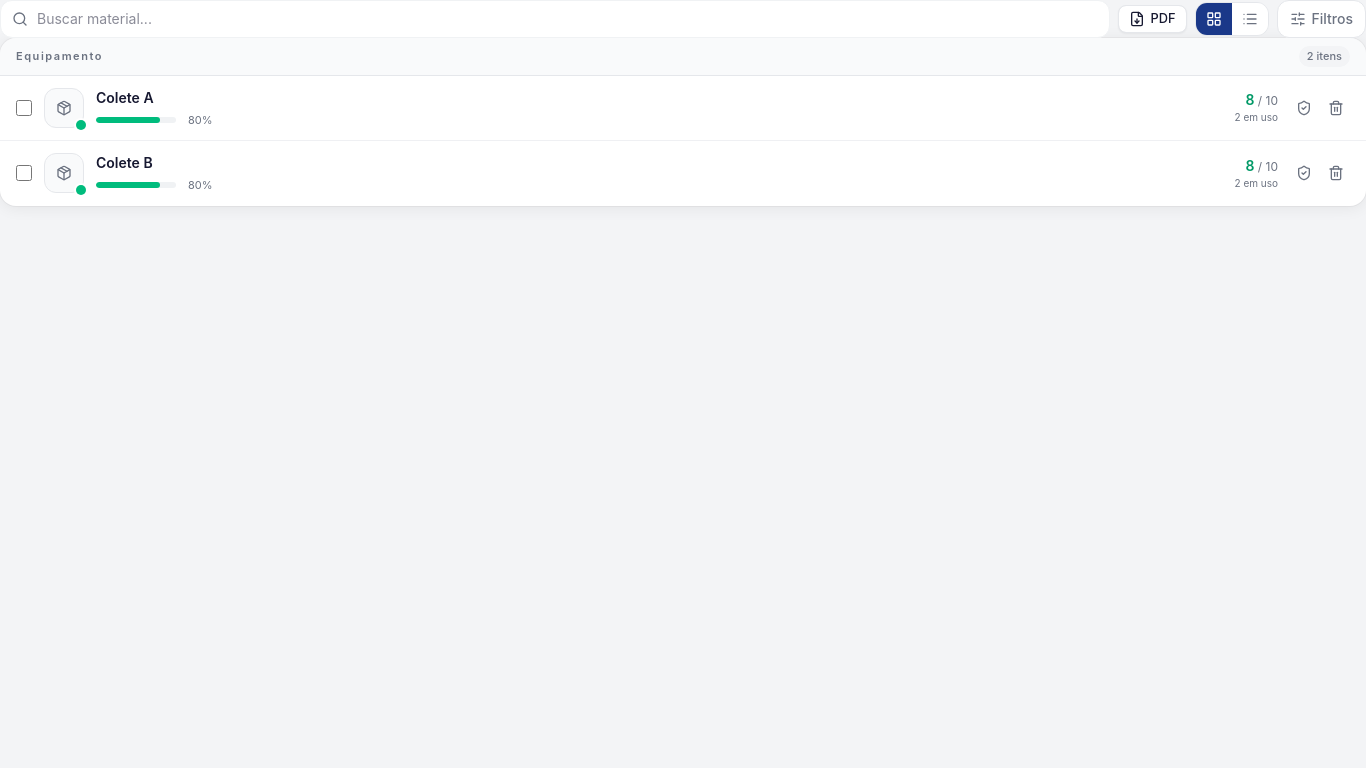
Test: ArsenalClient — 'Desativar material?' (AlertDialog, grupo simples) › guarda de concorrência: enquanto um DELETE está em voo, clicar em excluir outro material não abre um 2º diálogo
Click the button with test id "btn-delete-material". click: [1336, 108]
box: [1322, 94, 1350, 122]
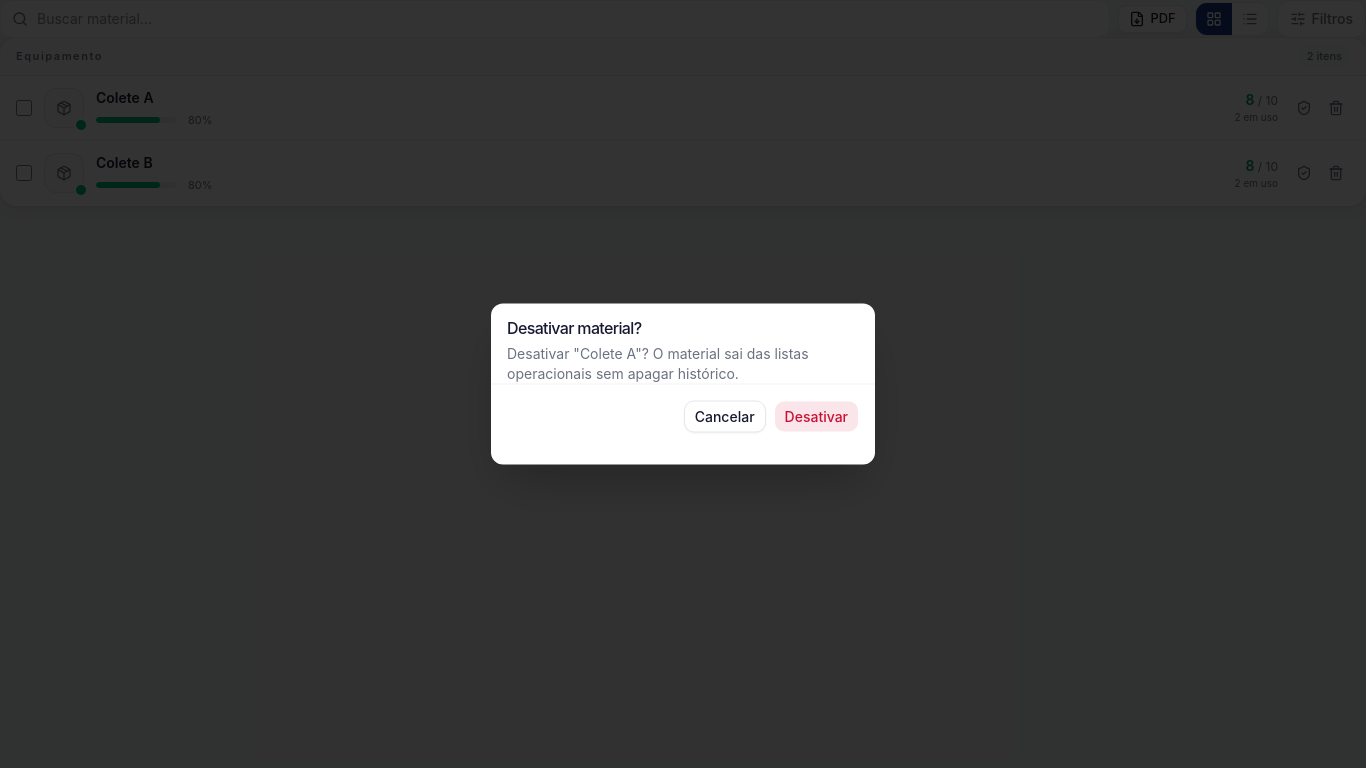
Click the button "Desativar". click: [816, 416]
box: [774, 400, 859, 432]
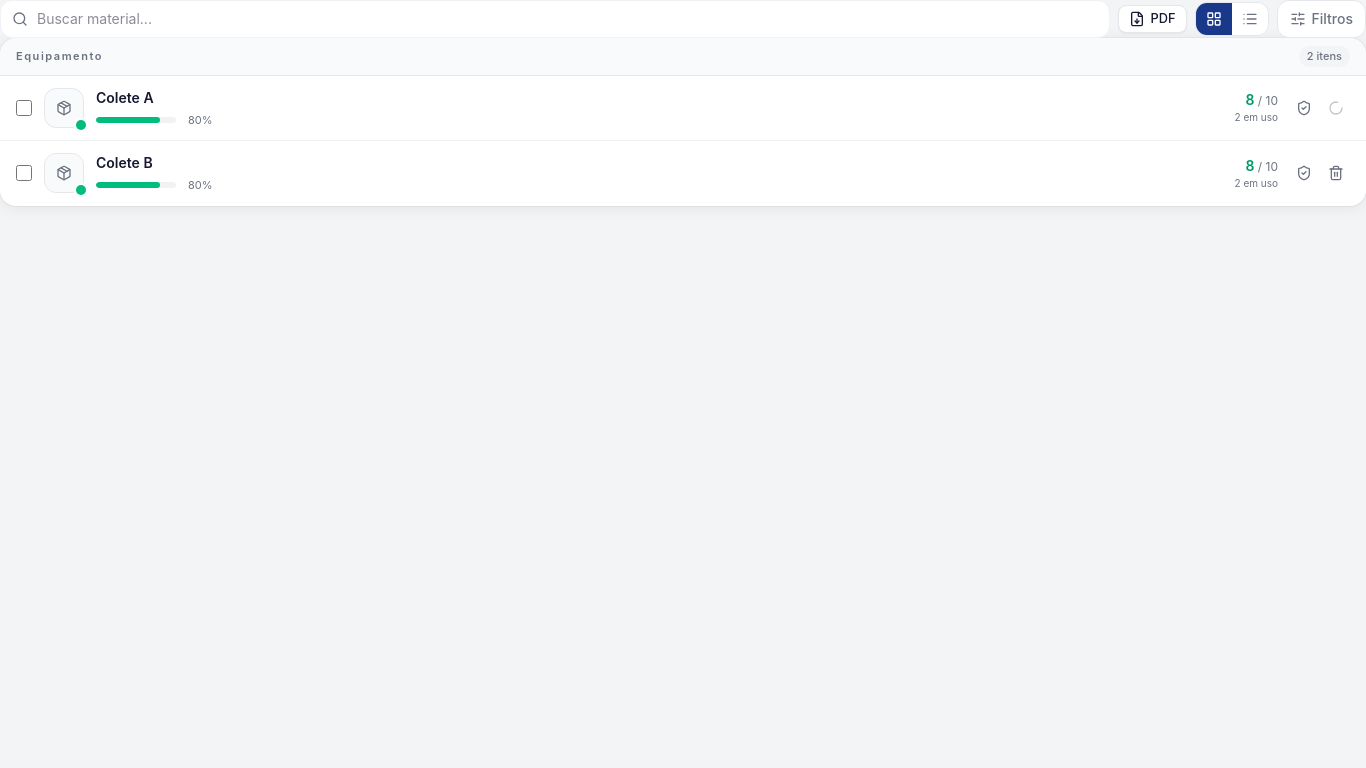
Expected: the dialog is gone
Click the button with test id "btn-delete-material". click: [1336, 173]
box: [1322, 159, 1350, 187]
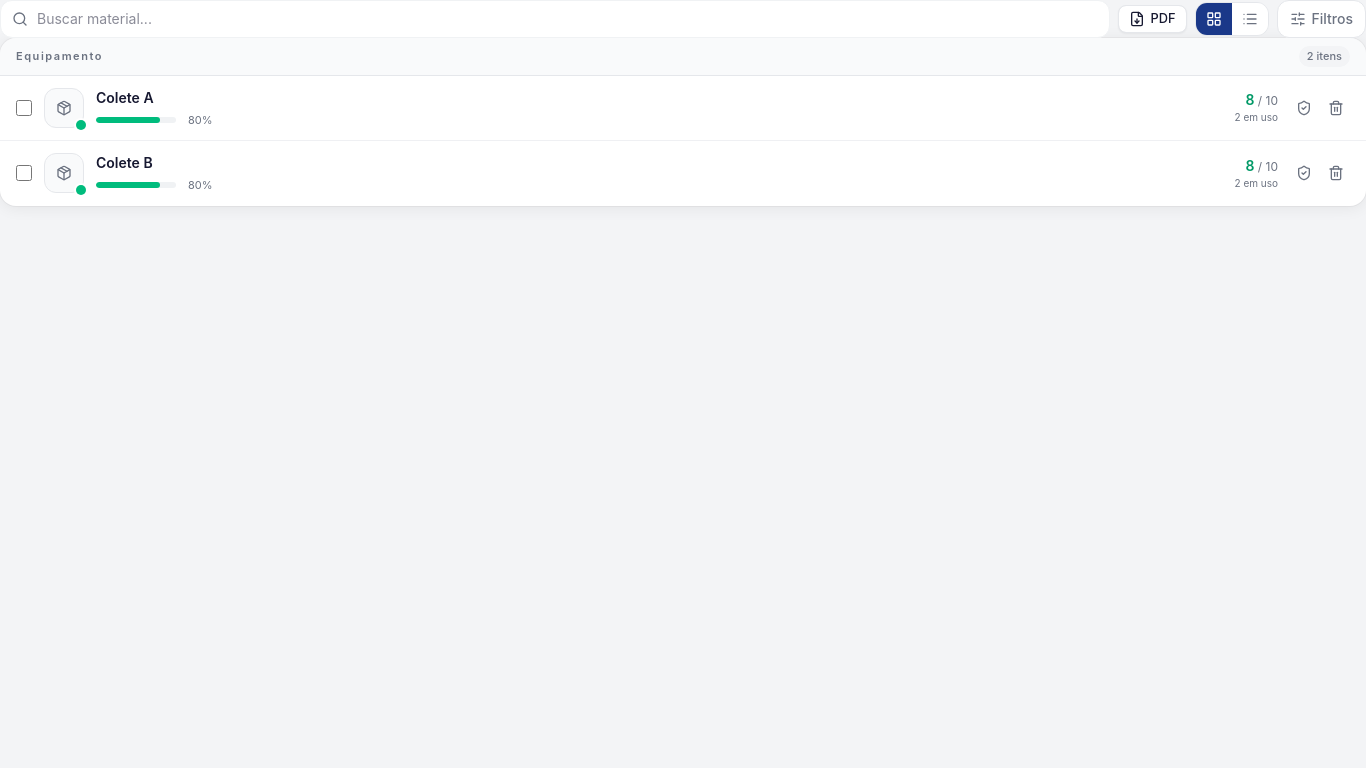
// Depois que A termina, B volta a poder ser excluído normalmente.
Click the button with test id "btn-delete-material". click: [1336, 173]
box: [1322, 159, 1350, 187]
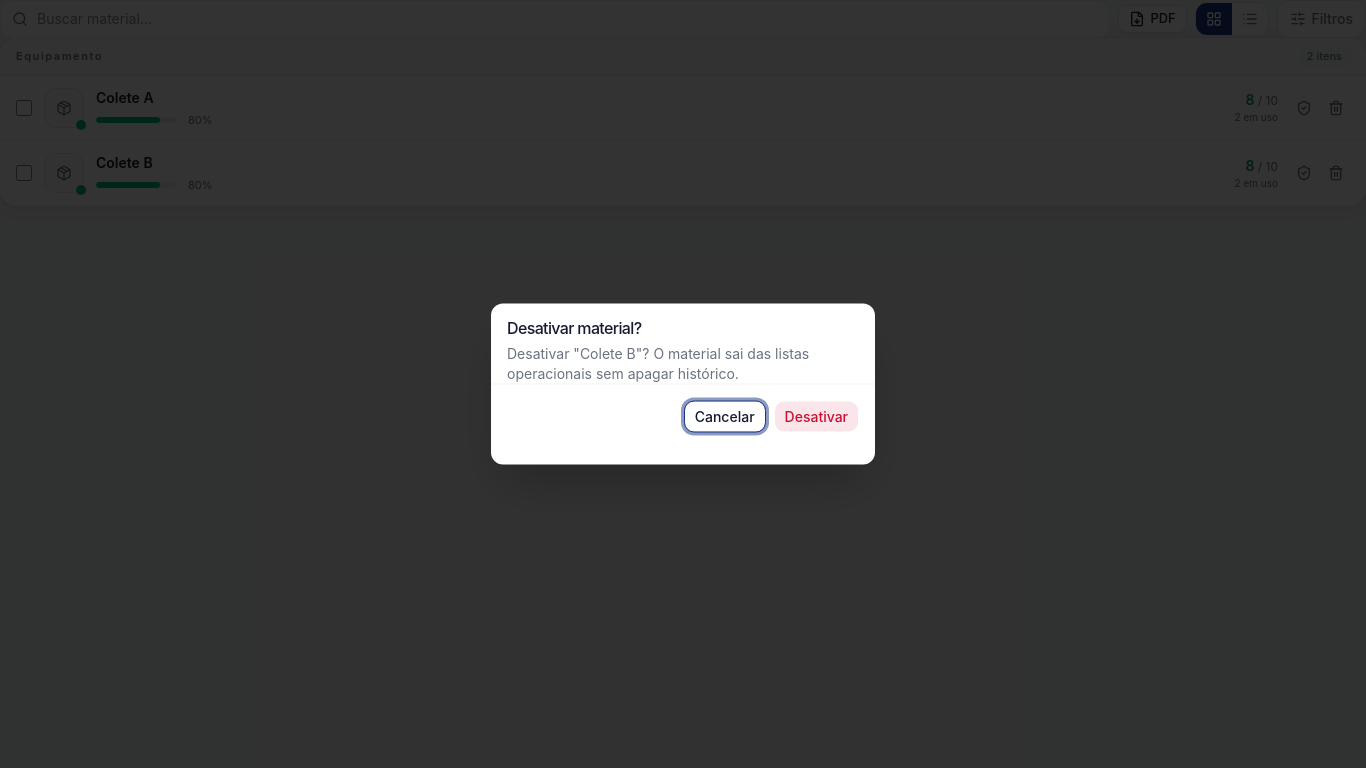
Expected: the dialog is shown, [491, 304, 875, 464]
